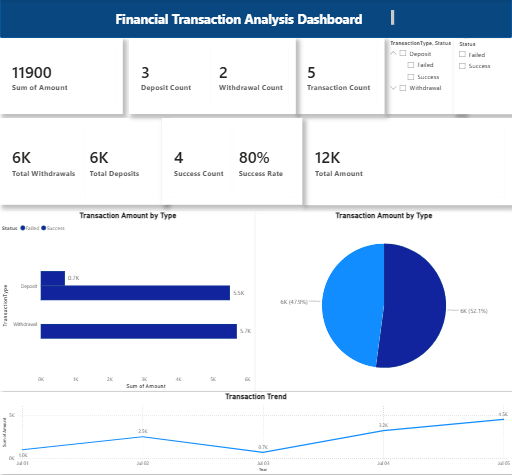

The page's visual inventory and layout, read from the dashboard file:
{"tool":"powerbi","page":{"name":"Page 1","canvas":[1280,1600],"ordinal":0},"visuals":[{"type":"cardVisual","fields":{"Data":["Sum(transactions.Amount)"]},"box":[0,102.9,307.1,190],"z":0},{"type":"clusteredBarChart","title":"Transaction Amount by Type","fields":{"Category":["transactions.TransactionType"],"Y":["Sum(transactions.Amount)"],"Series":["transactions.Status"]},"box":[0,535.7,640,451.4],"z":1000},{"type":"pieChart","title":"Transaction Amount by Type","fields":{"Category":["transactions.TransactionType"],"Y":["Sum(transactions.Amount)"]},"box":[640,535.7,640,451.4],"z":2000},{"type":"lineChart","title":"Transaction Trend","fields":{"Y":["Sum(transactions.Amount)"],"Category":["transactions.TransactionDate.Variation.Date Hierarchy.Year","transactions.TransactionDate.Variation.Date Hierarchy.Quarter","transactions.TransactionDate.Variation.Date Hierarchy.Month","transactions.TransactionDate.Variation.Date Hierarchy.Day"]},"box":[0,987.5,1280,205],"z":3000},{"type":"slicer","title":"Transaction Amount by Type & Status","fields":{"Values":["transactions.TransactionType","transactions.Status"]},"box":[962.5,102.5,197.5,190],"z":4000},{"type":"slicer","fields":{"Values":["transactions.Status"]},"box":[1135,105,145,187.5],"z":5000},{"type":"textbox","box":[282.9,51.4,637.1,51.4],"z":6000},{"type":"cardVisual","fields":{"Data":["transactions.Total Amount"]},"box":[757.5,302.5,522.5,217.5],"z":7000},{"type":"cardVisual","fields":{"Data":["transactions.Transaction Count"]},"box":[738.6,102.9,224.3,190],"z":8000},{"type":"cardVisual","fields":{"Data":["transactions.Total Deposits","transactions.Total Deposits1"]},"box":[0,302.9,415.7,217.1],"z":9000},{"type":"cardVisual","fields":{"Data":["transactions.Deposit Count","transactions.Withdrawal Count"]},"box":[321.4,102.9,417.1,190],"z":10000},{"type":"cardVisual","fields":{"Data":["transactions.Success Count","transactions.Success Rate"]},"box":[404.3,302.9,351.4,217.1],"z":11000},{"type":"shape","box":[0,0,1280,102.5],"z":12000},{"type":"textbox","box":[212.5,27.5,777.5,50],"z":13000}]}

Visuals, with their boxes on the page's 1280x1600 design canvas (x1, y1, x2, y2). These are canvas units, not pixel positions in the 512x475 screenshot, which may show the page scaled, cropped or inside an application window:
cardVisual - Sum(transactions.Amount): <box>0,103,307,293</box>
"Transaction Amount by Type" clusteredBarChart: <box>0,536,640,987</box>
"Transaction Amount by Type" pieChart: <box>640,536,1280,987</box>
"Transaction Trend" lineChart: <box>0,988,1280,1192</box>
"Transaction Amount by Type & Status" slicer: <box>962,102,1160,292</box>
slicer - transactions.Status: <box>1135,105,1280,292</box>
textbox: <box>283,51,920,103</box>
cardVisual - transactions.Total Amount: <box>758,302,1280,520</box>
cardVisual - transactions.Transaction Count: <box>739,103,963,293</box>
cardVisual - transactions.Total Deposits x transactions.Total Deposits1: <box>0,303,416,520</box>
cardVisual - transactions.Deposit Count x transactions.Withdrawal Count: <box>321,103,738,293</box>
cardVisual - transactions.Success Count x transactions.Success Rate: <box>404,303,756,520</box>
shape: <box>0,0,1280,102</box>
textbox: <box>212,28,990,78</box>
